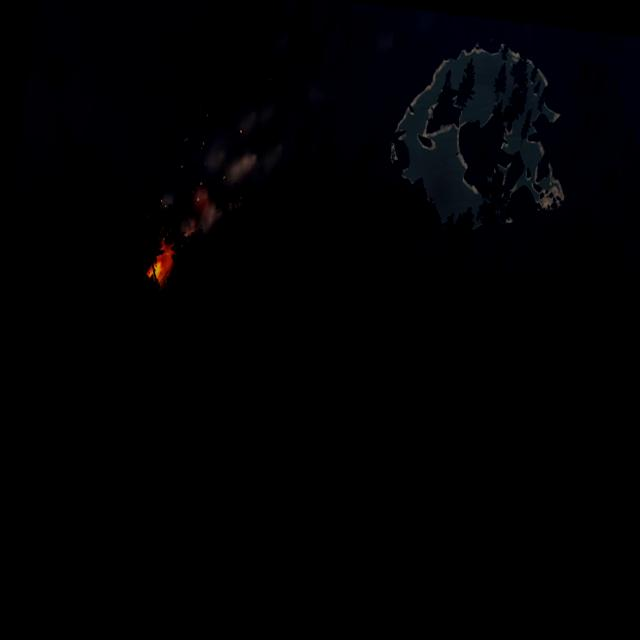fire: (144, 239, 176, 287)
smoke: (155, 0, 396, 264)
